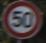Speed Limit -50-: (0, 0, 45, 42)
